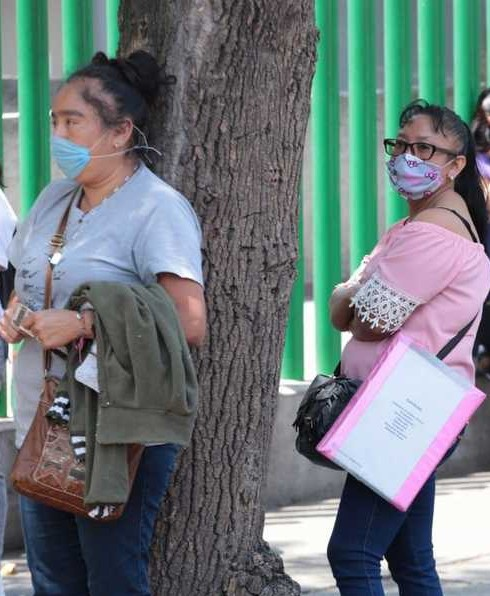with_mask: (39, 71, 144, 188), (380, 109, 468, 200)
